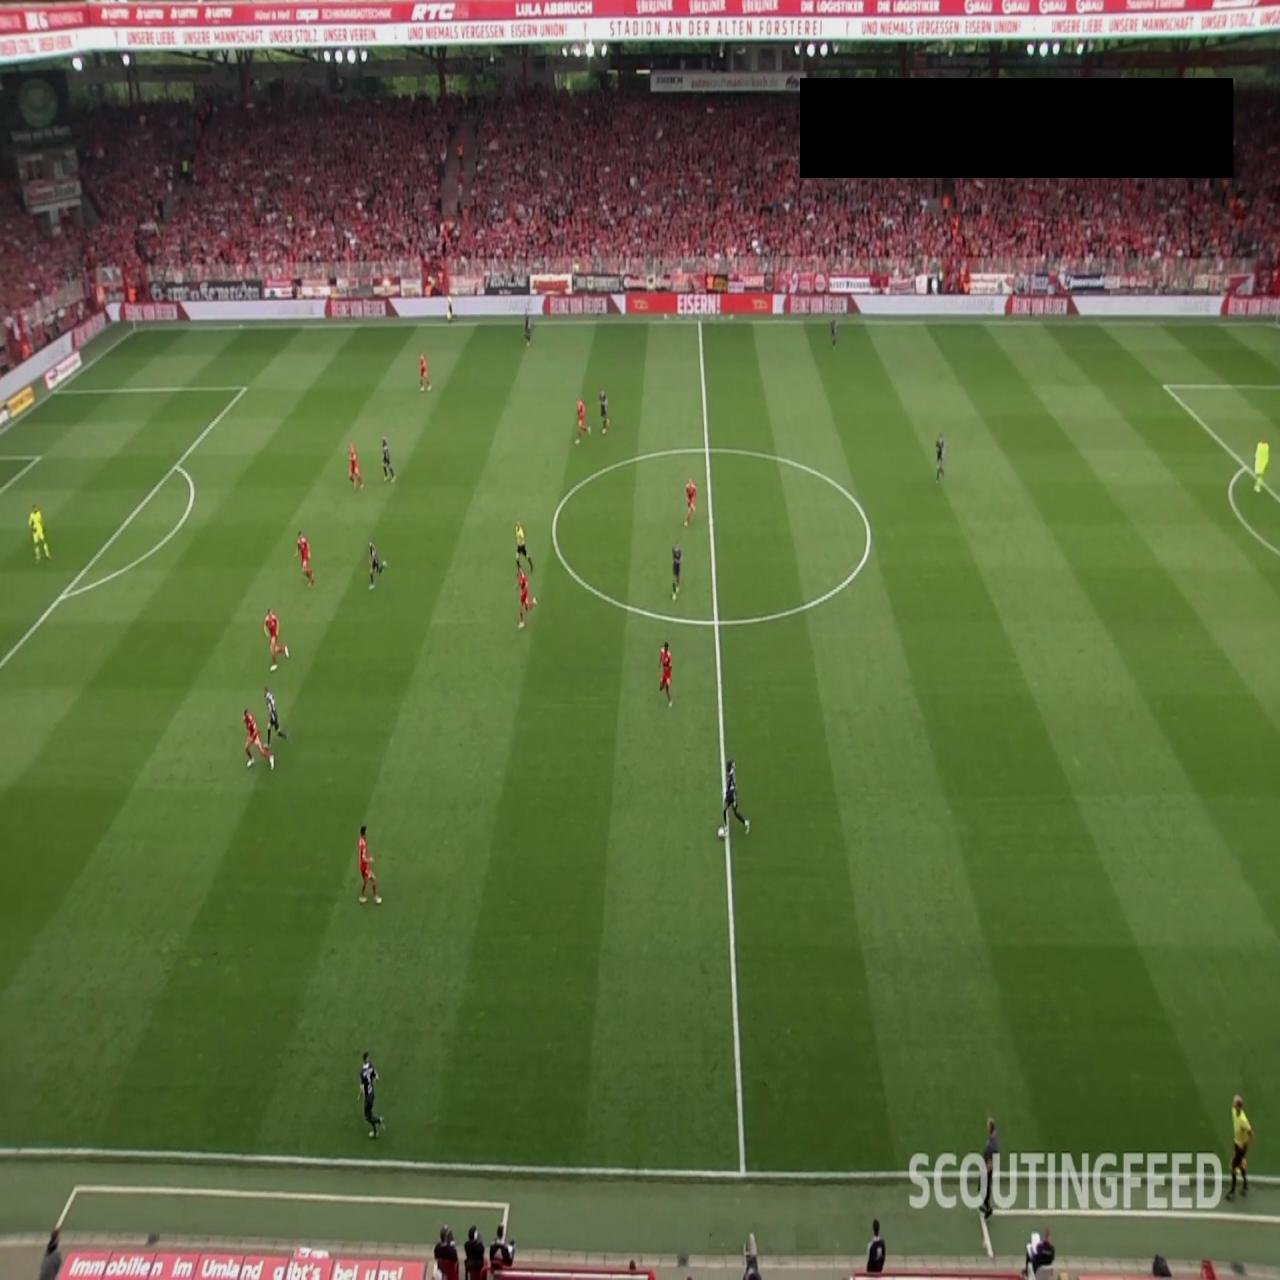ball: (717, 824, 726, 840)
goalkeeper: (29, 505, 52, 562), (1254, 440, 1269, 490)
player: (717, 760, 751, 840), (357, 1051, 385, 1139), (357, 825, 383, 905), (242, 709, 275, 770), (263, 685, 291, 747), (264, 608, 290, 672), (516, 564, 535, 628), (294, 530, 314, 586), (368, 540, 388, 590), (659, 640, 673, 708), (348, 442, 365, 493), (576, 398, 592, 444), (684, 479, 698, 527), (671, 542, 682, 598), (382, 437, 395, 482), (419, 352, 432, 392), (935, 435, 946, 482), (599, 388, 610, 433), (523, 303, 534, 348), (830, 319, 838, 348)
referee: (1225, 1095, 1255, 1200), (516, 519, 534, 573), (446, 293, 455, 325)
